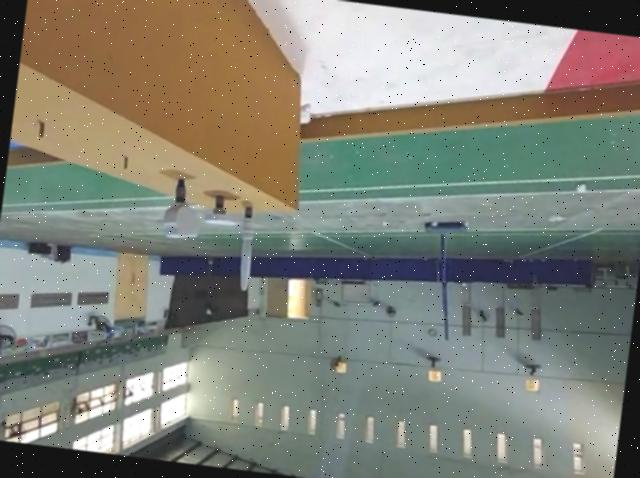Fist: (158, 175, 205, 243)
Hand: (206, 194, 240, 228)
Sph: (231, 203, 261, 293)
